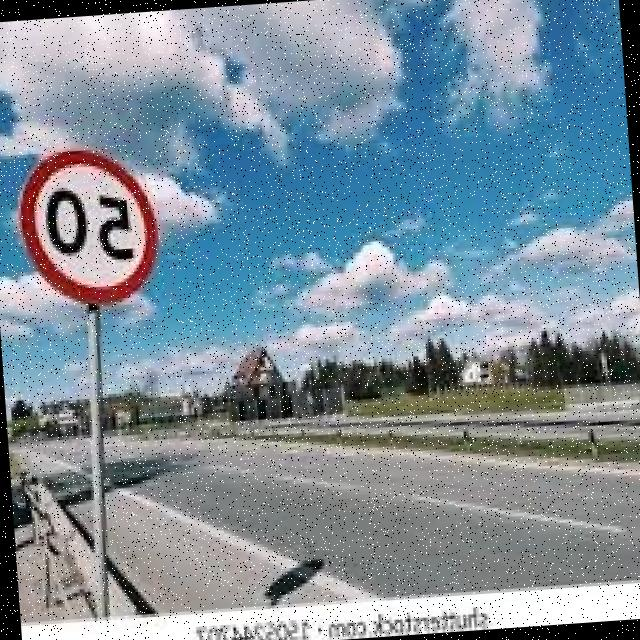speed_limit_50: (8, 136, 171, 324)
